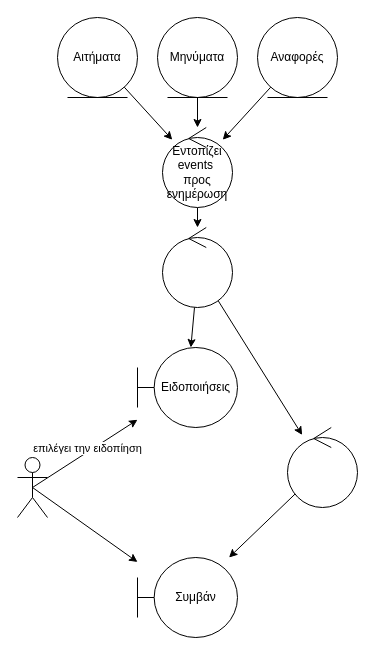
The diagram is 375 pixels wide and 655 high, and some of its shapes have lost their labels. The shapes that lost their labels are listed below. From the top down, each one's centre as x and y in pixels, then its label:
(x=197, y=267): στέλνει ειδοποίηση στον Χρήστη
(x=32, y=487): User
(x=322, y=467): Εμφάνισει σχετικού συμβάντος
